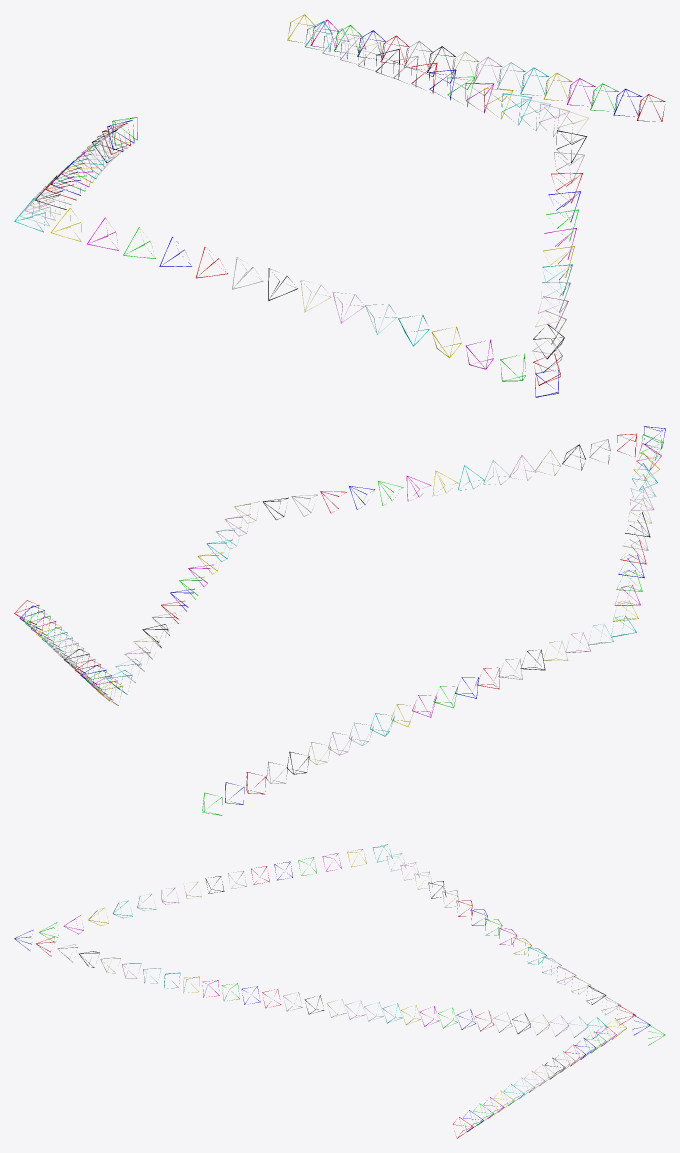
Rendered from cameras.glb.
3 views of the same model, one above another, from view 1: azimuth 30°, elevation 25°; view 2: azimuth 150°, elevation 25°; view 3: azimuth 270°, elevation 25° (orthographic). The views are drawn at different scales.
Parts seen in each view (by area): view 1: world; view 2: world; view 3: world.
Boxes of the visible parts, box(x1,y1,x2,y2) form: world: box(14, 14, 665, 397); world: box(14, 426, 665, 815); world: box(14, 844, 665, 1138).
Bounding box in the file's own units: 0.9539 × 0.219 × 1.2.
